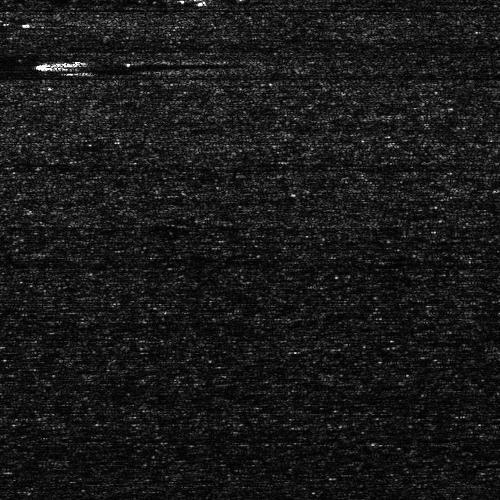object: (21, 59, 94, 66), (63, 69, 94, 72)
shadow: (57, 59, 212, 66), (79, 69, 157, 72)
